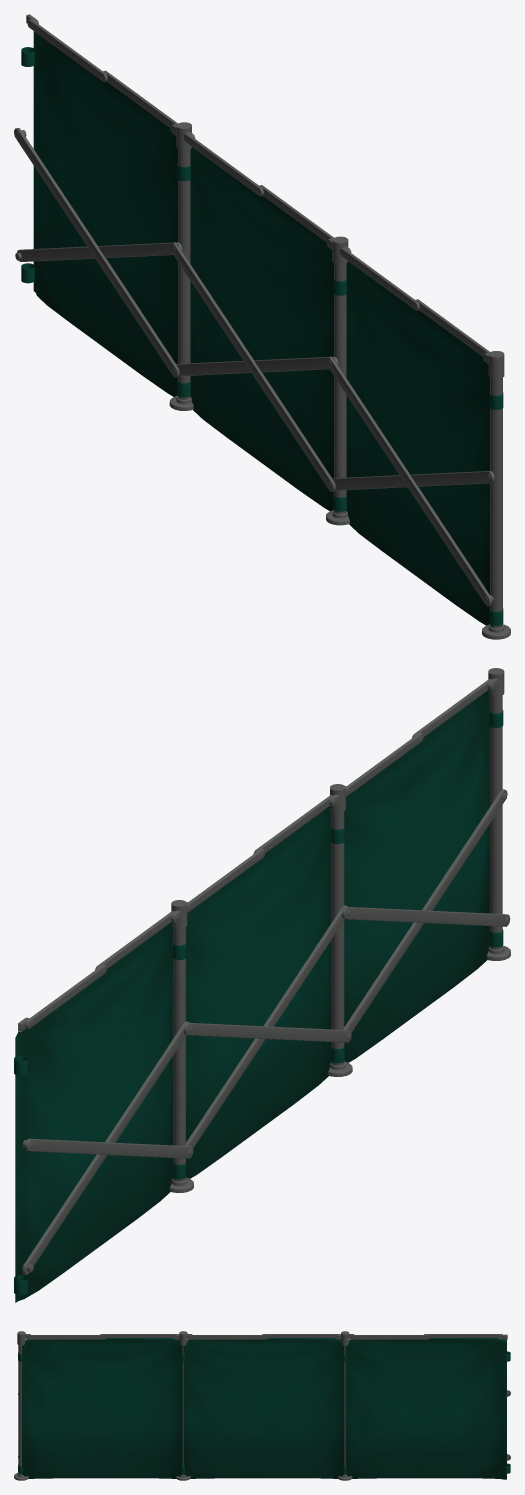
File: Right.glb
The picture shows the model from 3 angles, top to bottom: view 1: azimuth 30°, elevation 25°; view 2: azimuth 150°, elevation 25°; view 3: azimuth 270°, elevation 25°; orthographic projection. The views are drawn at different scales.
Parts seen in each view (by area): view 1: Right; view 2: Right; view 3: Right.
Part boxes in pixels (x1,y1,x2,y2): Right: (14,14,510,639); Right: (14,668,510,1302); Right: (14,1331,510,1480).
Bounding box in the file's own units: 0.2041 × 2.16 × 6.7.
Materials: 1 (1 with a texture image).
